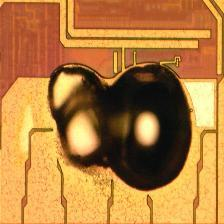PARTICLE: (42, 61, 201, 198)
